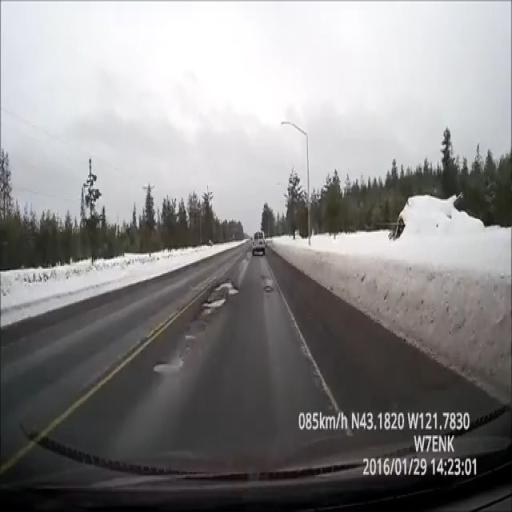Potholes: (194, 283, 236, 330), (215, 282, 238, 294)
